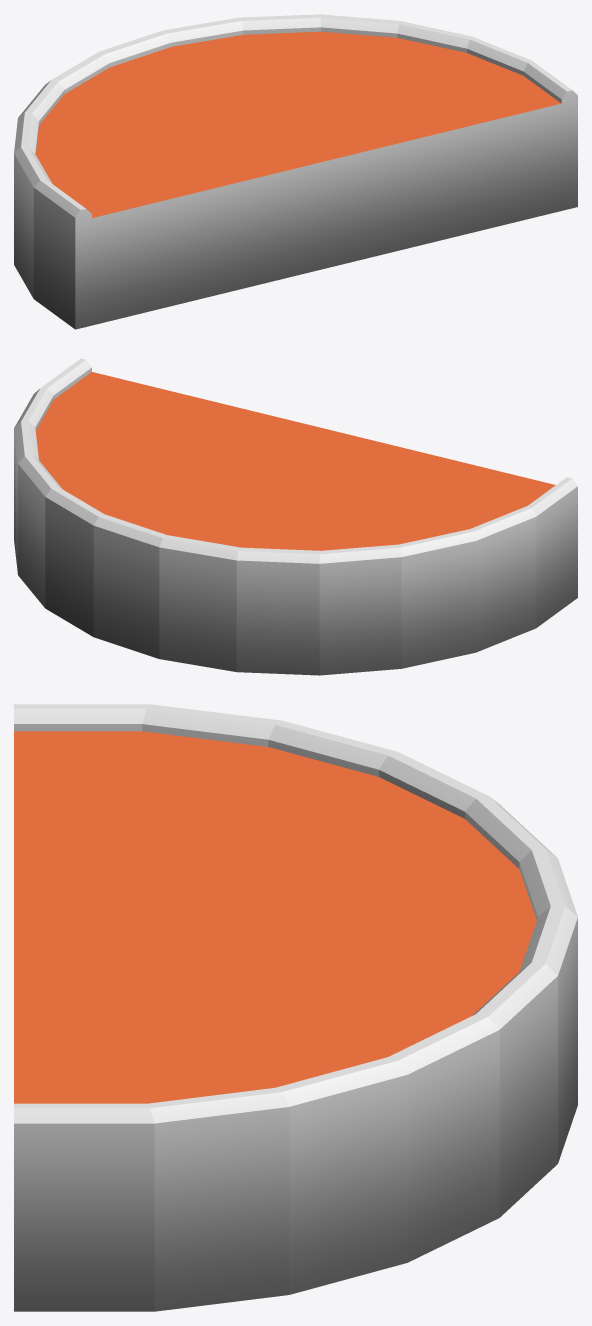
File: Round_Corner_Pavement.fbx
3 renders of one model, top to bottom at view 1: azimuth 30°, elevation 25°; view 2: azimuth 150°, elevation 25°; view 3: azimuth 270°, elevation 25°, orthographic. The views are drawn at different scales.
Parts seen in each view (by area): view 1: Round_Corner_Pavement; view 2: Round_Corner_Pavement; view 3: Round_Corner_Pavement.
Boxes of the visible parts, x1,y1,x2,y2 form: Round_Corner_Pavement: (14,14,577,329); Round_Corner_Pavement: (14,358,577,675); Round_Corner_Pavement: (14,704,577,1311).
Bounding box in the file's own units: 199 × 44.72 × 115.
